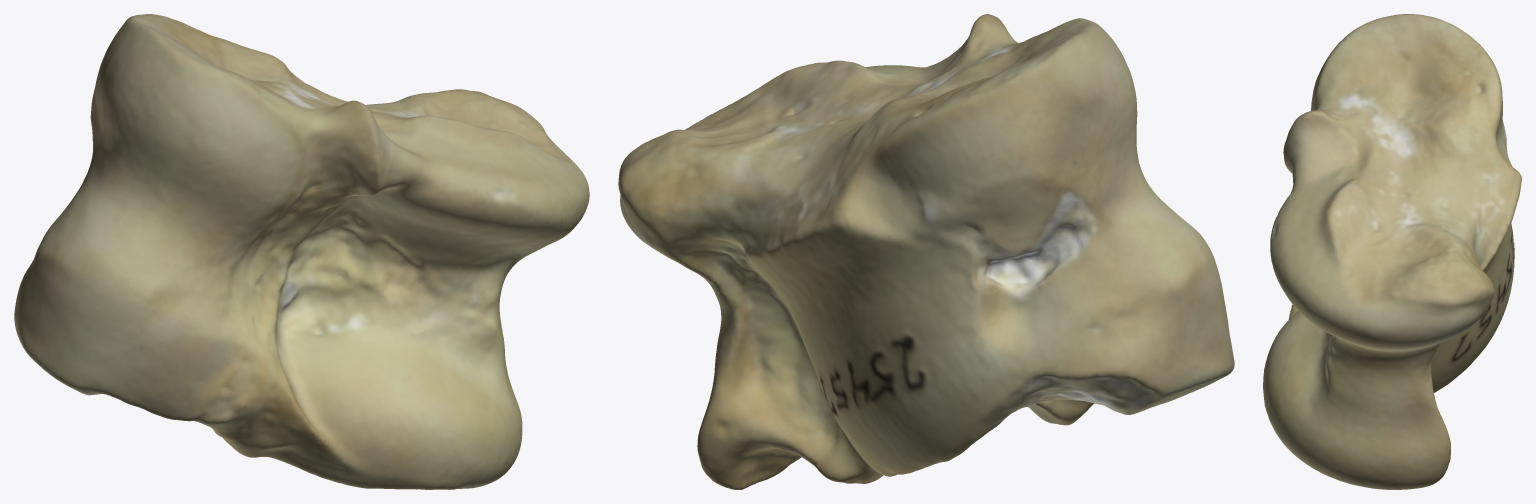
The picture shows the model from 3 angles, left to right: view 1: azimuth 30°, elevation 25°; view 2: azimuth 150°, elevation 25°; view 3: azimuth 270°, elevation 25°; orthographic projection. The views are drawn at different scales.
Parts seen in each view (by area): view 1: Node; view 2: Node; view 3: Node.
Part boxes in pixels (box(x1,y1,x2,y2)): Node: box(14, 14, 589, 489); Node: box(618, 14, 1234, 489); Node: box(1263, 14, 1521, 489).
Size of the model in its own units: 31.34 by 27.07 by 17.44.
1 material, 1 textured.
